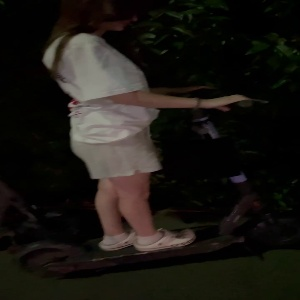human on a scooter: (9, 1, 291, 279)
